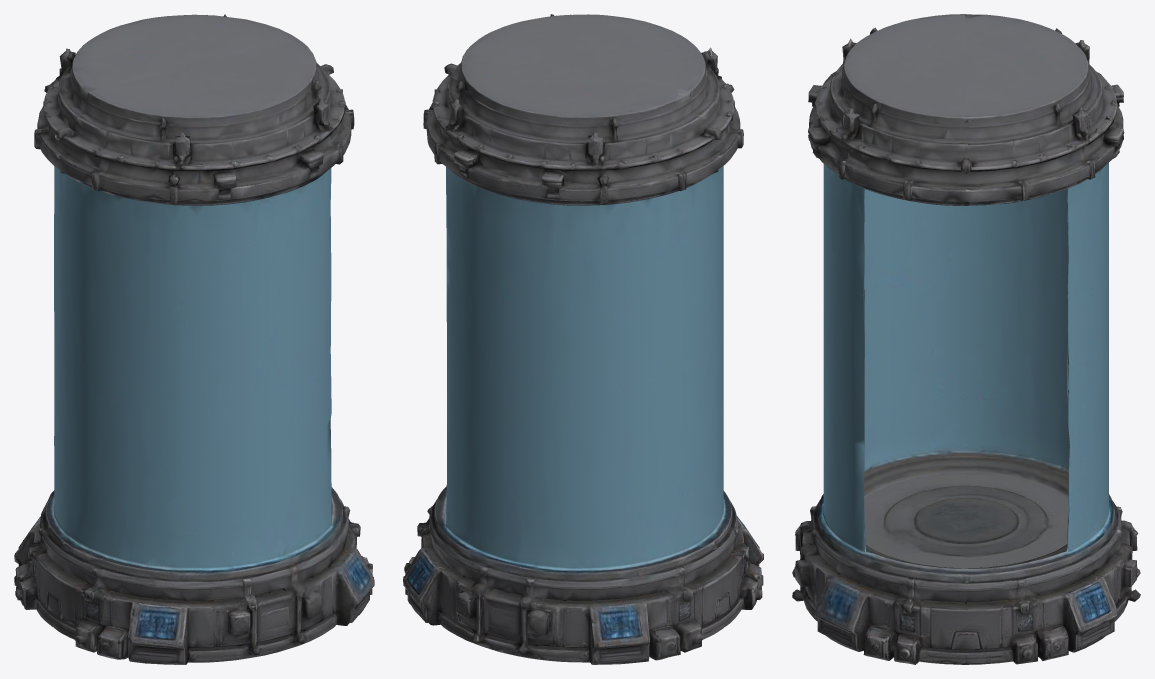
The model's file is mobile.glb.
The picture shows the model from 3 angles, left to right: view 1: azimuth 30°, elevation 25°; view 2: azimuth 150°, elevation 25°; view 3: azimuth 270°, elevation 25°; orthographic projection.
Bounding box in the file's own units: 0.5842 × 1 × 0.592.
1 material, 1 textured.
